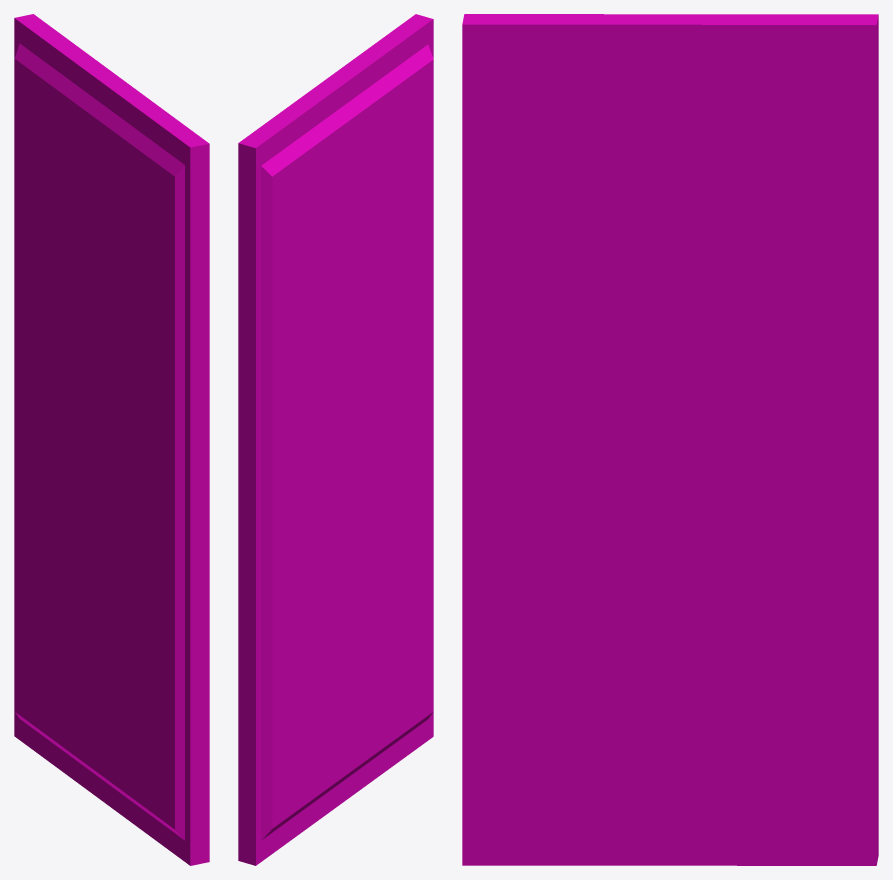
Rendered from Wardrobe_01_Right_Door.fbx.
3 views of the same model, side by side, from view 1: azimuth 30°, elevation 25°; view 2: azimuth 150°, elevation 25°; view 3: azimuth 270°, elevation 25° (orthographic). The views are drawn at different scales.
Parts seen in each view (by area): view 1: Wardrobe_01_Right_Door; view 2: Wardrobe_01_Right_Door; view 3: Wardrobe_01_Right_Door.
Boxes of the visible parts, bbox=[...] form: Wardrobe_01_Right_Door: bbox=[14, 14, 209, 865]; Wardrobe_01_Right_Door: bbox=[238, 14, 433, 865]; Wardrobe_01_Right_Door: bbox=[462, 14, 878, 865].
Size of the model in its own units: 6.18 by 156 by 70.02.
